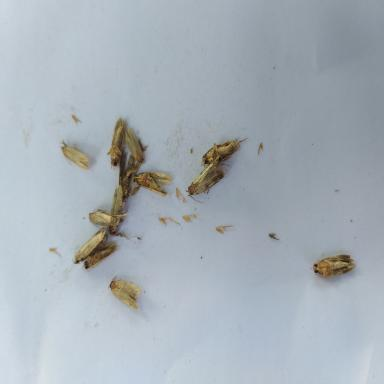pbw: (186, 155, 226, 204), (199, 137, 248, 169), (72, 226, 108, 264), (82, 237, 118, 272), (118, 152, 142, 203), (108, 276, 141, 310), (310, 254, 356, 278), (132, 172, 172, 198), (89, 206, 130, 230), (107, 185, 125, 236), (107, 118, 124, 170), (124, 124, 145, 164), (60, 145, 90, 171)
